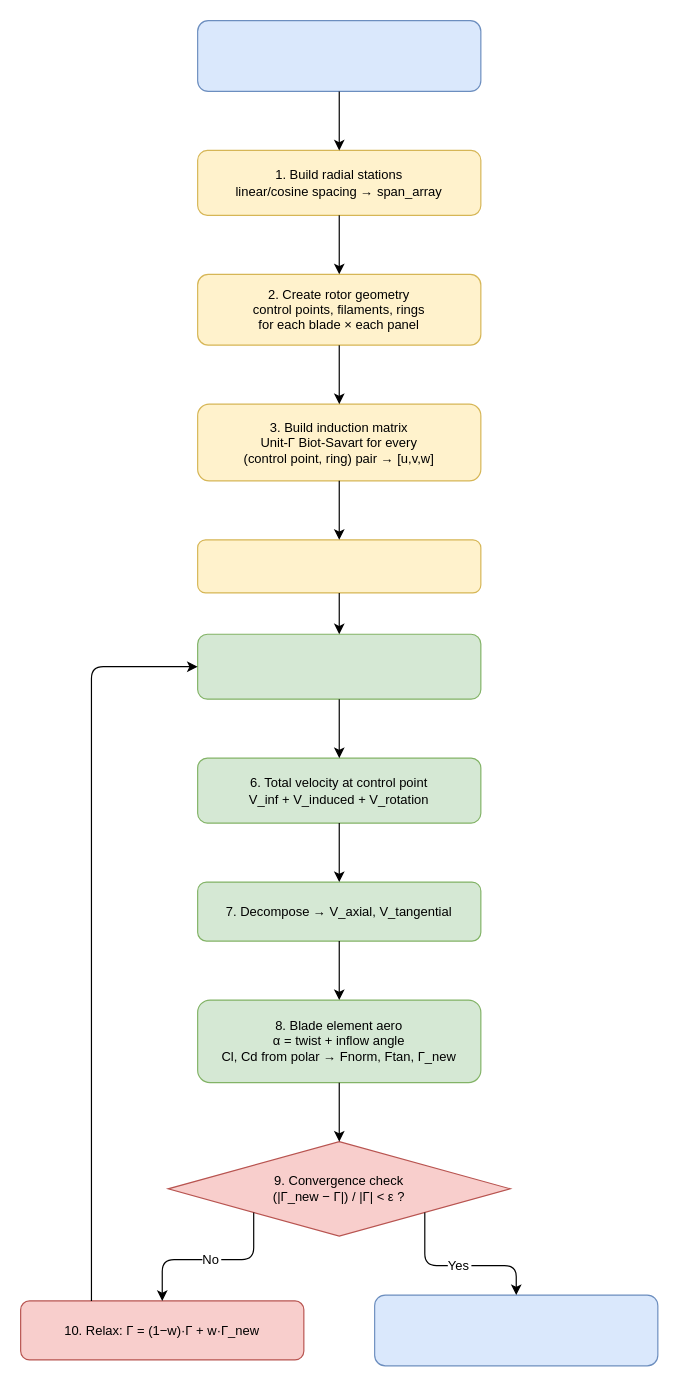
Image size: 679x1386. Some labels were removed from this diagram. Here are the shapes that lost their labels. From the top down, the box of each, then its label:
(196, 19, 481, 91): INPUTS J, U_inf, N_elements, N_rotations, N_blades, R
(196, 539, 481, 593): 4. Initialise Γ = 0
(196, 633, 481, 699): 5. Induced velocity [u,v,w] · Γ at each control point
(373, 1294, 658, 1366): OUTPUTS a, a' (induction factors) Γ(r), Fnorm(r), Ftan(r)
